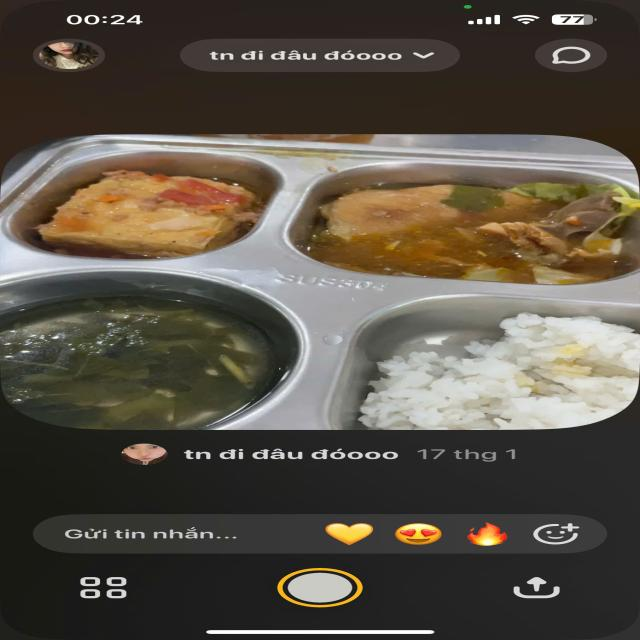canh_cai: (0, 304, 252, 431)
com_trang: (410, 321, 640, 425)
dau_hu_sot_ca: (37, 157, 274, 254)
